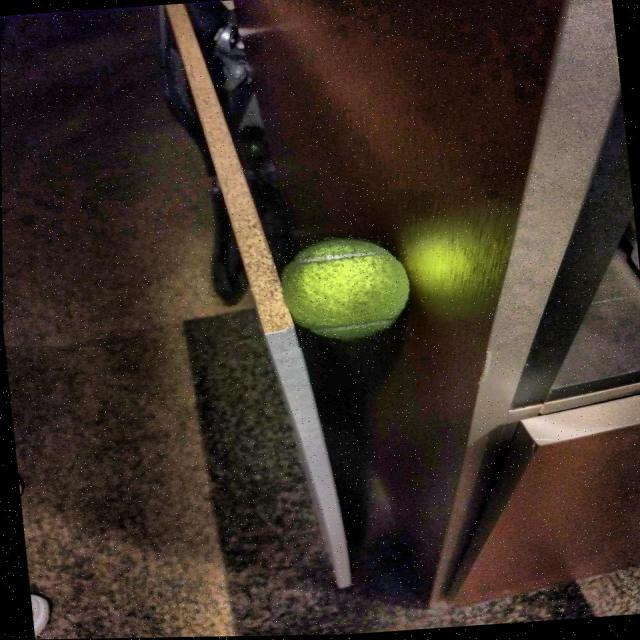tennis-ball: (278, 233, 422, 351)
